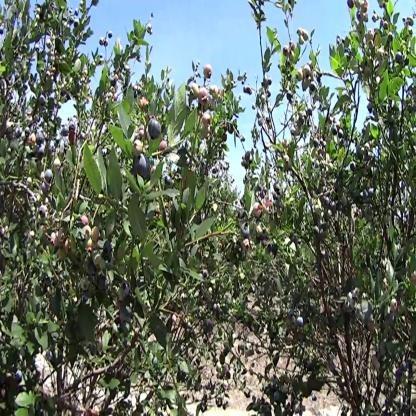intermediate: (191, 84, 219, 105), (252, 203, 265, 218), (203, 67, 213, 84), (51, 232, 65, 244)
mature: (118, 285, 133, 323), (133, 159, 153, 179), (314, 216, 331, 239), (325, 199, 337, 230), (147, 119, 162, 142), (241, 224, 251, 239)
young: (296, 67, 314, 94), (85, 226, 101, 253), (59, 242, 72, 265), (134, 143, 144, 157)
